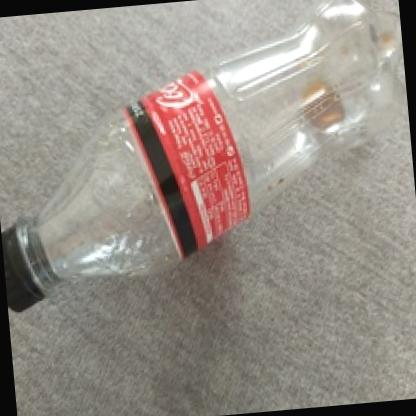plastic_bottles: (0, 0, 416, 326)
